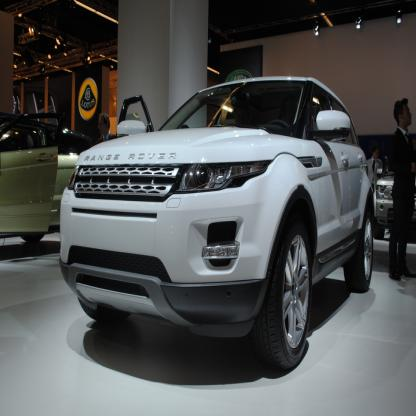Car: (60, 77, 376, 371), (1, 114, 95, 243), (373, 156, 416, 244)
